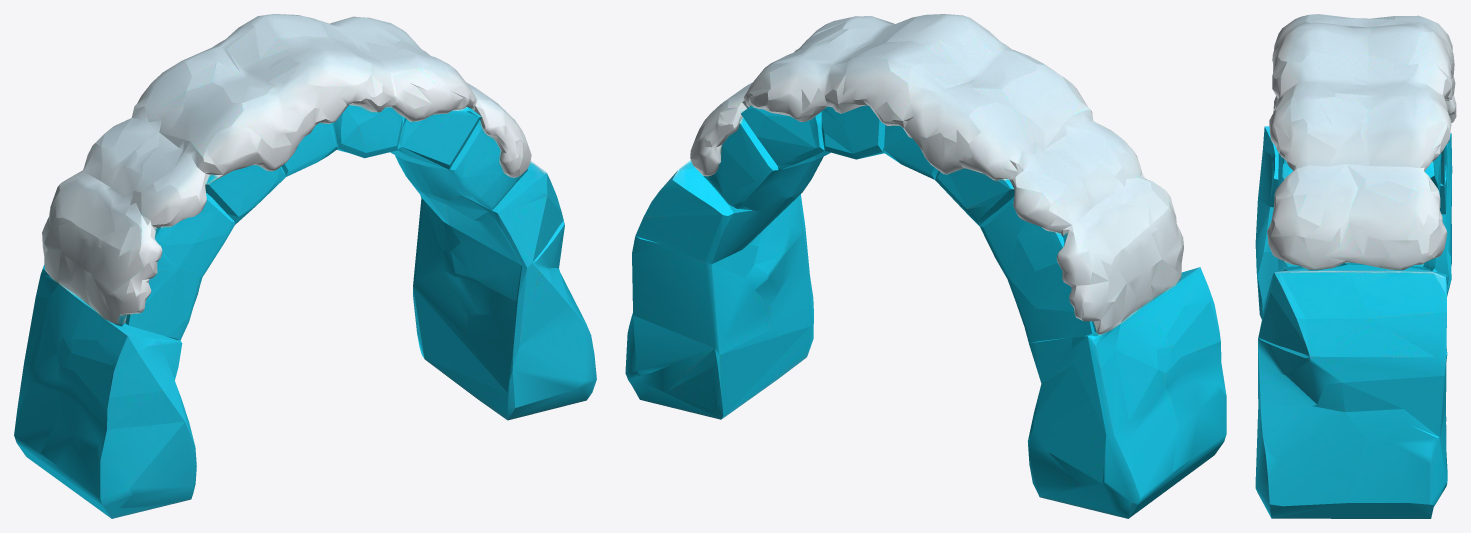
The model's file is ice-arch.glb.
3 views of the same model, side by side, from view 1: azimuth 30°, elevation 25°; view 2: azimuth 150°, elevation 25°; view 3: azimuth 270°, elevation 25° (orthographic). The views are drawn at different scales.
Size of the model in its own units: 1.9 by 1.39 by 0.6741.
Materials: 1 (1 with a texture image).
